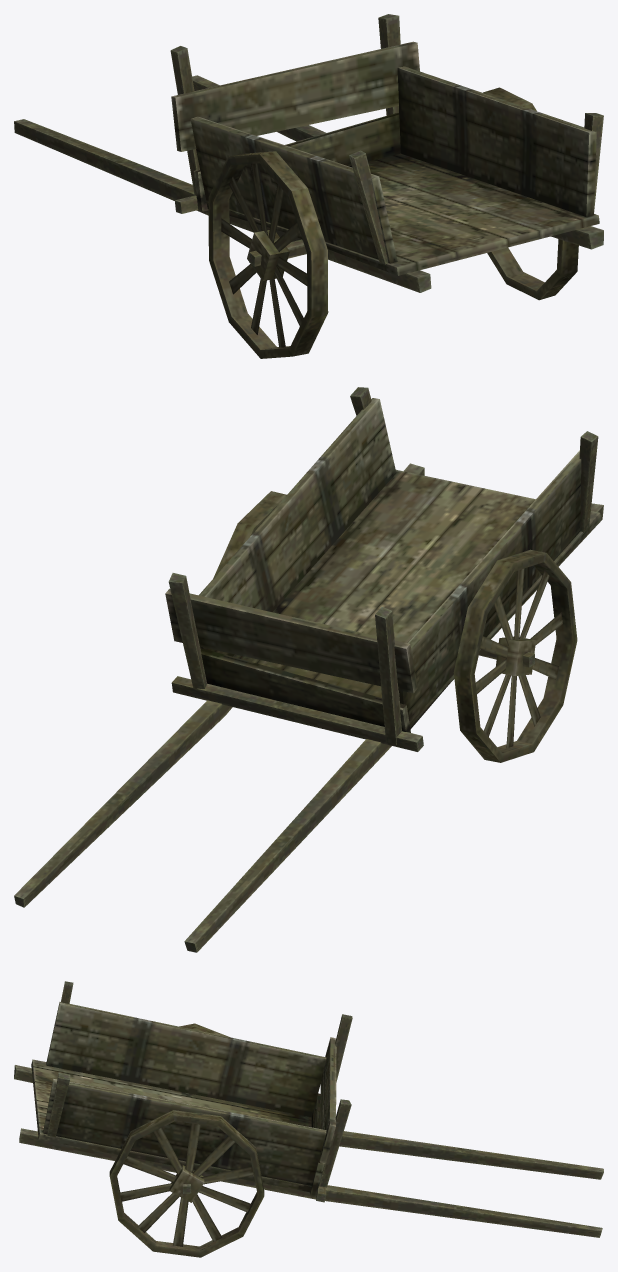
File: OZ_20_nk_wobj06A.glb
3 renders of one model, top to bottom at view 1: azimuth 30°, elevation 25°; view 2: azimuth 150°, elevation 25°; view 3: azimuth 270°, elevation 25°, orthographic. The views are drawn at different scales.
Parts seen in each view (by area): view 1: OM_20_nk_wobj06A; view 2: OM_20_nk_wobj06A; view 3: OM_20_nk_wobj06A.
Part boxes in pixels (box(x1,y1,x2,y2)): OM_20_nk_wobj06A: box(14, 14, 603, 358); OM_20_nk_wobj06A: box(14, 387, 603, 952); OM_20_nk_wobj06A: box(14, 981, 603, 1257).
Bounding box in the file's own units: 1.77 × 1.54 × 4.4.
Materials: 1 (1 with a texture image).
